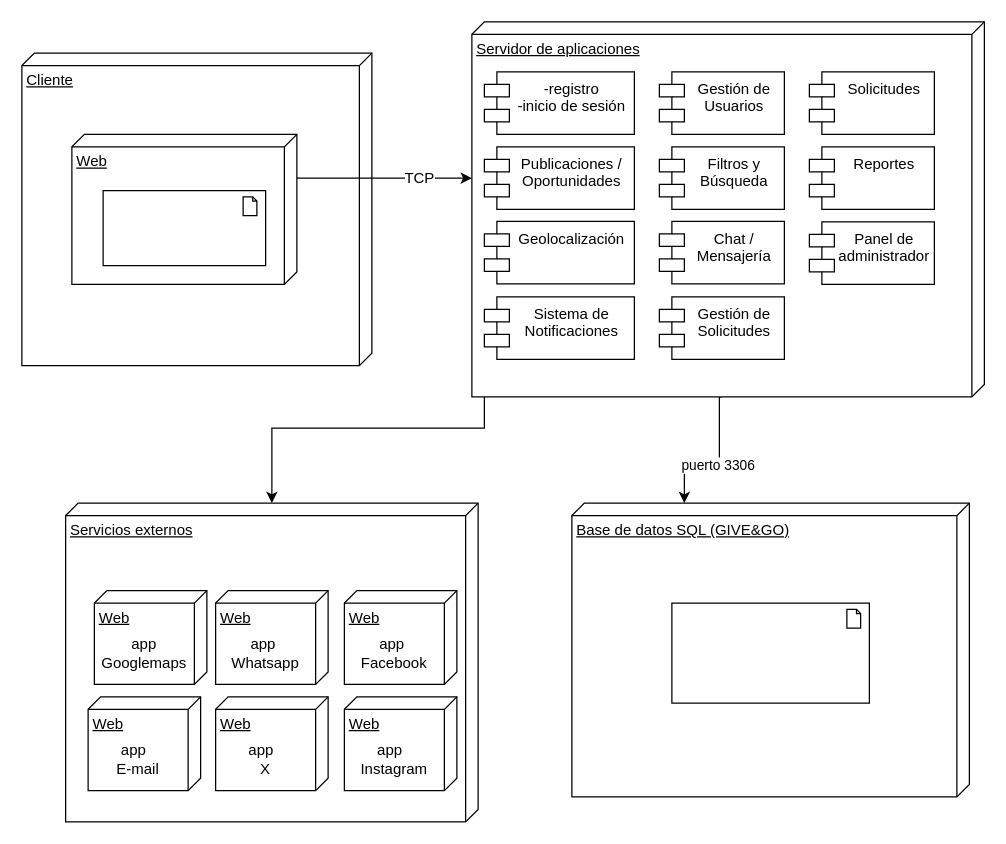
Image size: 1006x844. Some labels were removed from this diagram. Each missing label, with the centre of its shape:
"Frontend React / HTML" goes at [184,227].
"GIVE & GO SQL" goes at [770,652].
